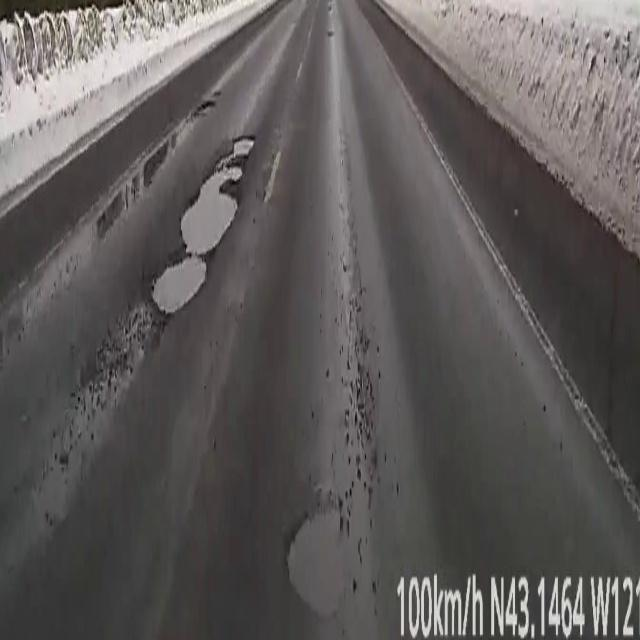pothole: (154, 137, 254, 313), (284, 501, 356, 626)
